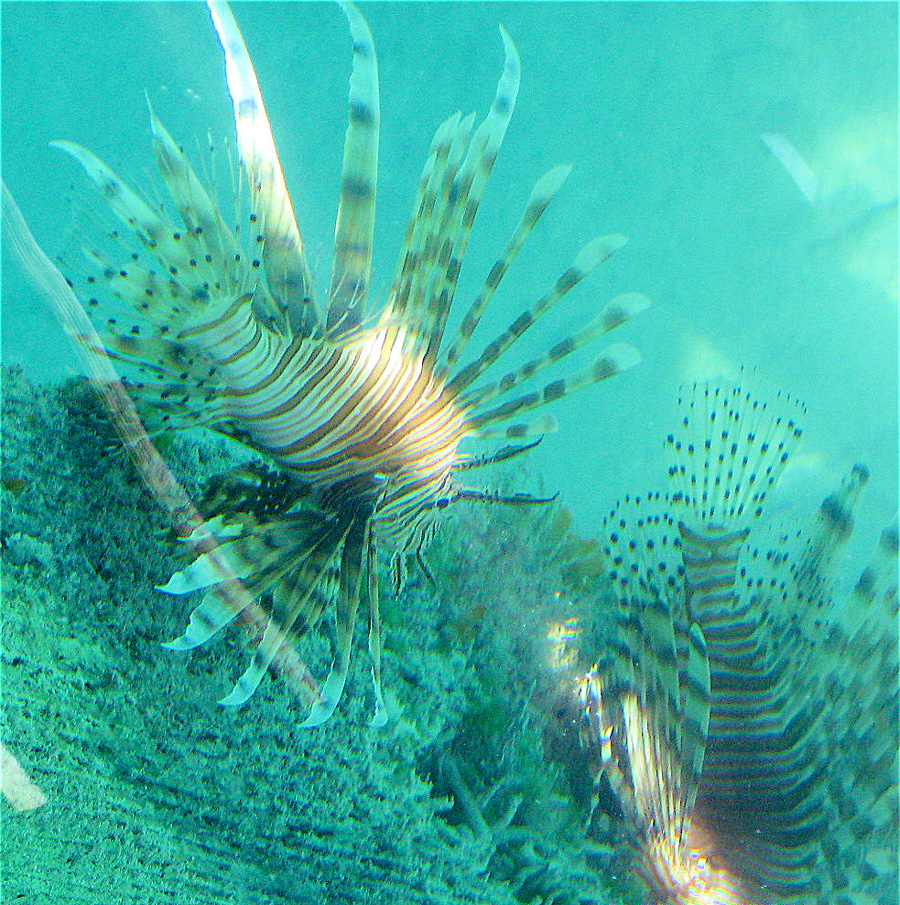Pterois_volitans: (42, 22, 549, 560)
